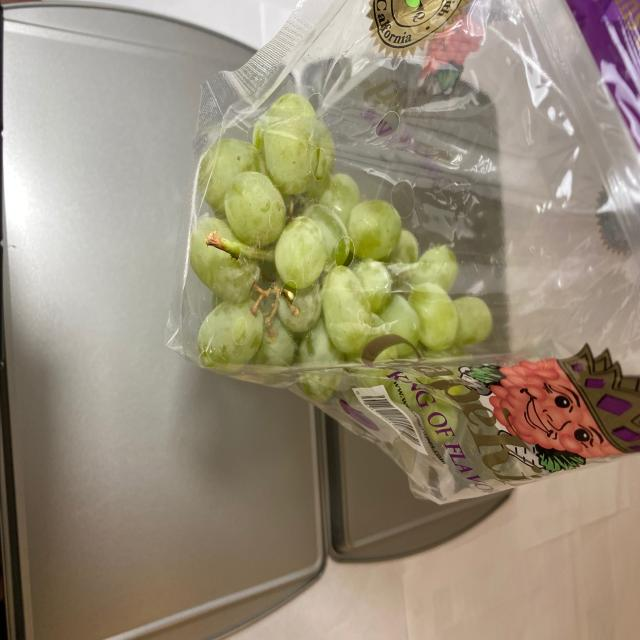grapes: (192, 97, 500, 460)
